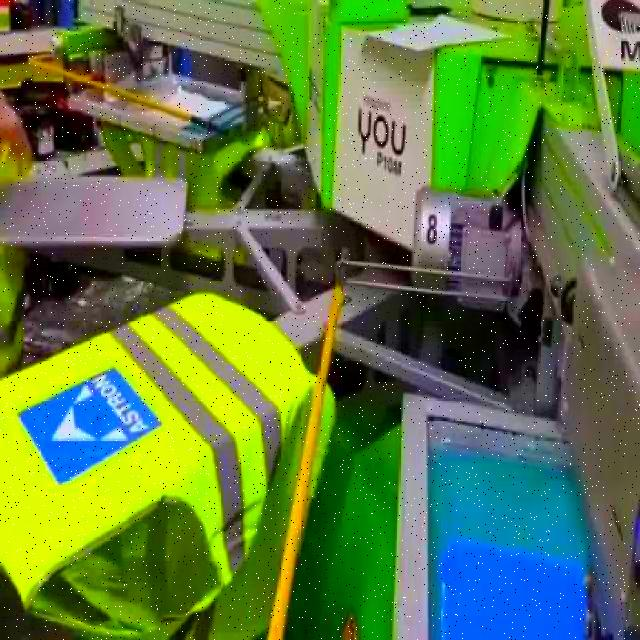Mask: (0, 286, 340, 639)
